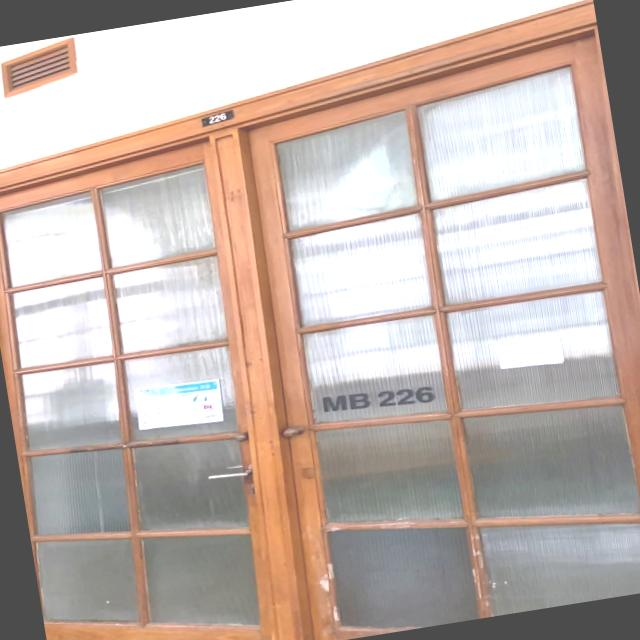room226: (198, 108, 238, 128)
room226Window: (316, 376, 442, 421)
